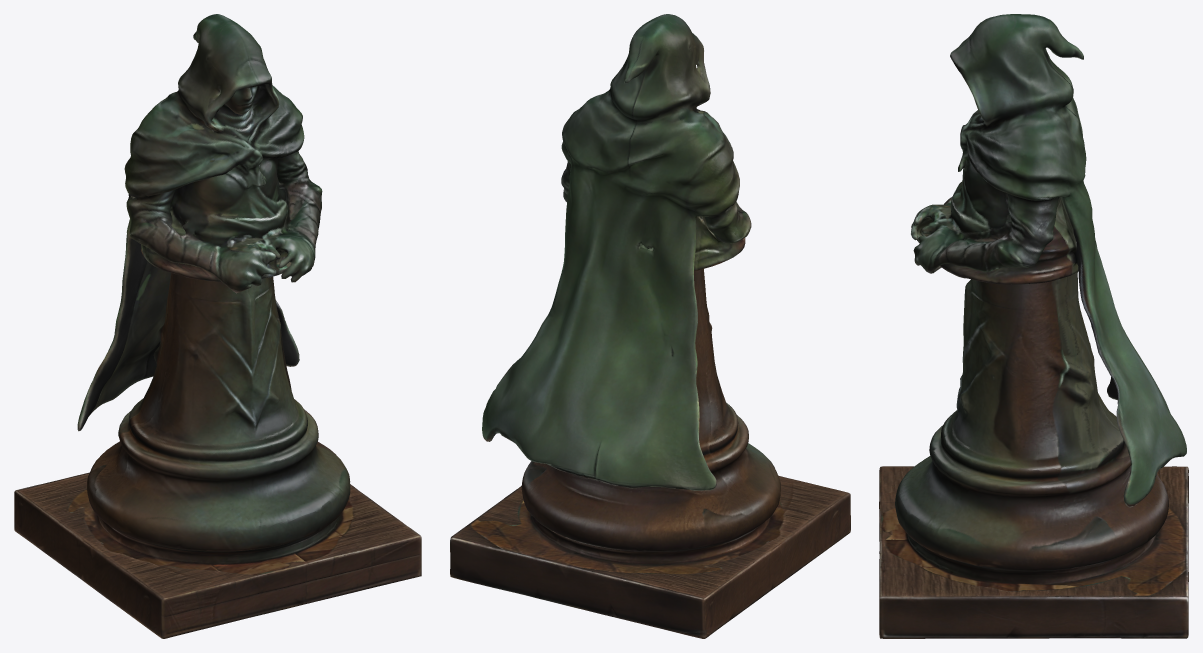
Rendered from create_a_chess_piece__1105012730_refine.fbx.
The picture shows the model from 3 angles, left to right: view 1: azimuth 30°, elevation 25°; view 2: azimuth 150°, elevation 25°; view 3: azimuth 270°, elevation 25°; orthographic projection. The views are drawn at different scales.
Parts seen in each view (by area): view 1: file1; view 2: file1; view 3: file1.
Part boxes in pixels (x1,y1,x2,y2): file1: (14, 14, 421, 638); file1: (450, 14, 850, 638); file1: (879, 14, 1188, 638).
Size of the model in its own units: 101 by 200 by 101.
1 material, 1 textured.
